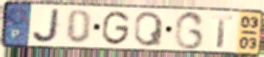0: (65, 8, 94, 46)
G: (172, 10, 206, 51), (100, 10, 132, 47)
J: (30, 7, 63, 45)
Q: (133, 10, 165, 48)
T: (210, 14, 235, 49)
